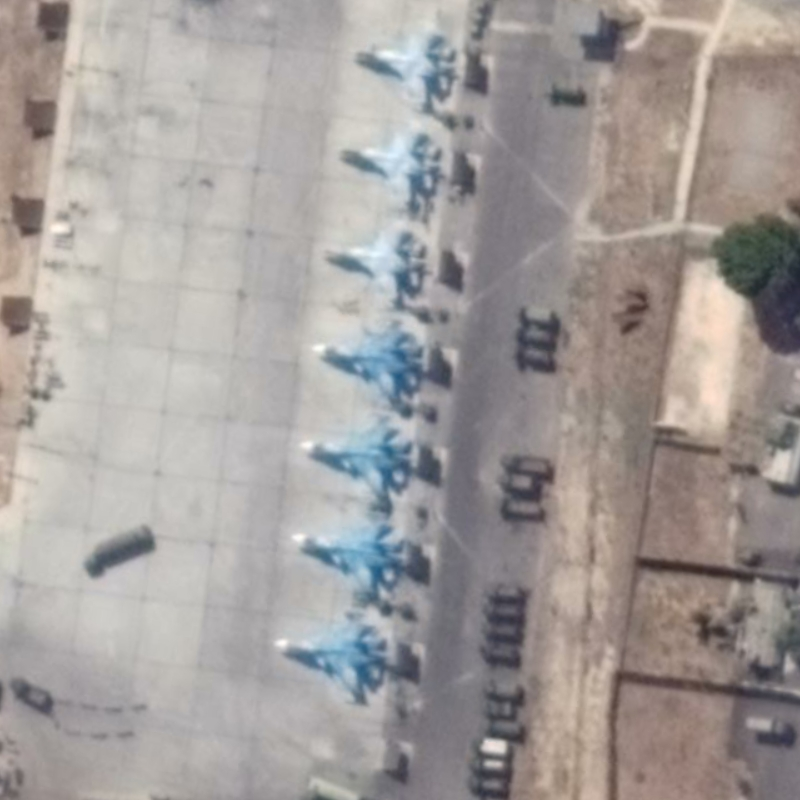A1: (336, 121, 443, 213), (350, 23, 458, 106), (319, 227, 429, 304)
A19: (303, 316, 425, 410), (268, 619, 391, 707), (298, 423, 416, 514), (288, 519, 409, 604)
